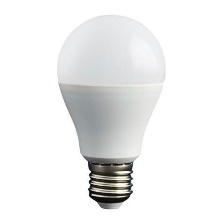light_bulb: (53, 9, 169, 215)
